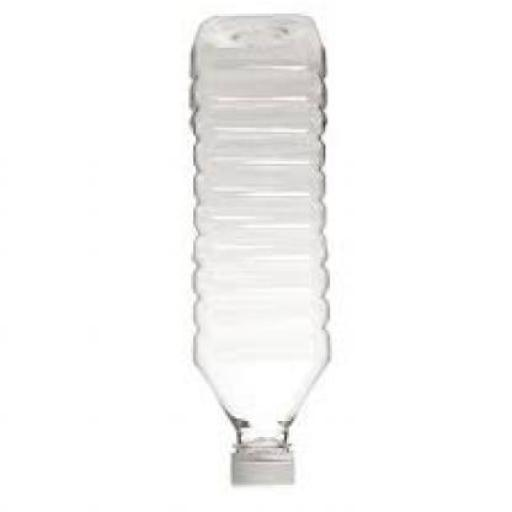plastic: (186, 16, 326, 489), (227, 444, 294, 489)
